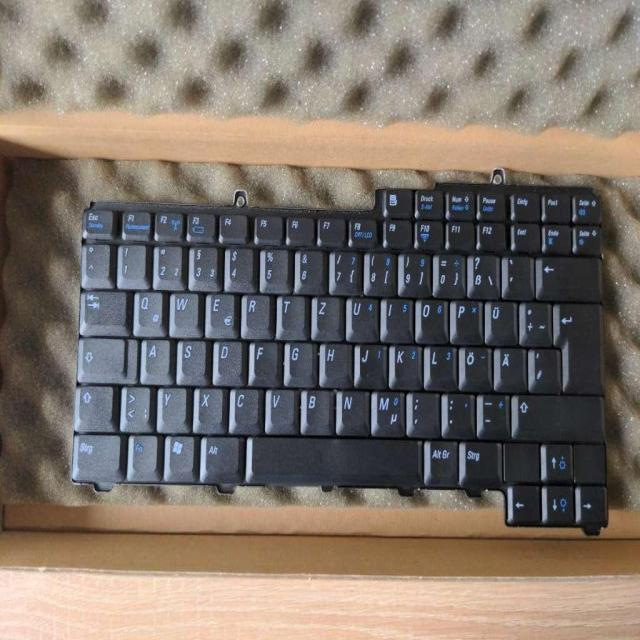0: (432, 250, 464, 295)
1: (115, 240, 146, 288)
2: (152, 242, 182, 287)
3: (186, 243, 218, 289)
4: (223, 244, 254, 289)
5: (258, 246, 289, 291)
6: (293, 247, 323, 293)
7: (328, 248, 359, 294)
8: (363, 248, 395, 294)
9: (398, 250, 430, 295)
a: (139, 336, 170, 382)
accent: (501, 253, 532, 298)
ae: (493, 345, 525, 389)
alt-left: (199, 433, 239, 480)
altgr-right: (422, 437, 457, 483)
b: (299, 386, 331, 432)
c: (228, 385, 261, 432)
caret: (81, 240, 110, 287)
comma: (405, 388, 438, 436)
d: (211, 338, 243, 384)
del: (535, 253, 601, 300)
e: (204, 290, 236, 336)
enter: (552, 302, 602, 393)
f: (249, 338, 278, 383)
g: (283, 338, 313, 384)
h: (318, 340, 351, 385)
hash: (527, 345, 559, 391)
i: (379, 295, 412, 340)
j: (354, 341, 386, 386)
k: (390, 343, 421, 387)
keyboard: (65, 179, 610, 526)
l: (424, 344, 456, 389)
less: (118, 382, 150, 430)
m: (369, 387, 403, 435)
minus: (476, 391, 508, 437)
n: (334, 387, 368, 433)
o: (413, 296, 446, 342)
oe: (459, 345, 490, 389)
p: (449, 297, 481, 342)
plus: (518, 298, 550, 344)
point: (441, 390, 473, 436)
q: (131, 288, 163, 334)
r: (239, 291, 271, 337)
s: (175, 337, 207, 383)
shift-left: (73, 382, 113, 430)
shift-lock: (76, 334, 126, 381)
shift-right: (512, 391, 603, 439)
space: (249, 435, 419, 484)
ss: (466, 251, 498, 297)
strg-left: (70, 431, 121, 480)
strg-right: (459, 439, 499, 484)
t: (276, 292, 306, 336)
tab: (79, 288, 126, 333)
u: (344, 294, 377, 340)
ue: (483, 297, 516, 343)
v: (264, 385, 295, 432)
w: (168, 288, 200, 336)
x: (193, 384, 224, 431)
y: (155, 384, 187, 431)
z: (310, 293, 341, 339)
